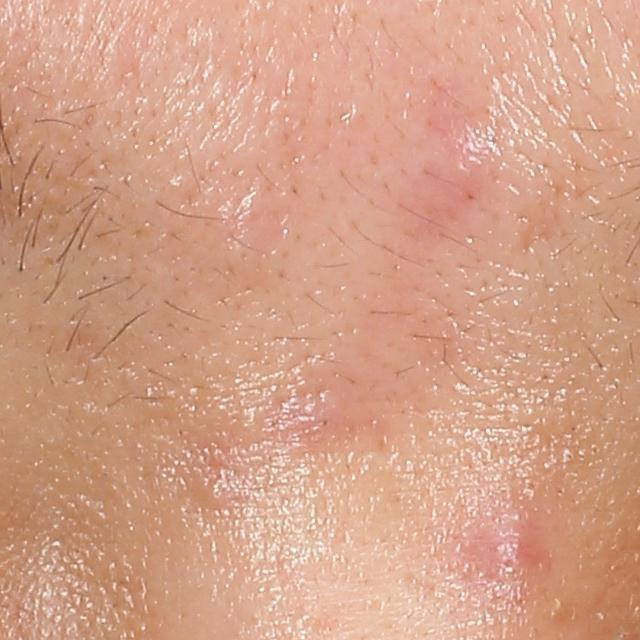papule: (459, 508, 548, 577)
